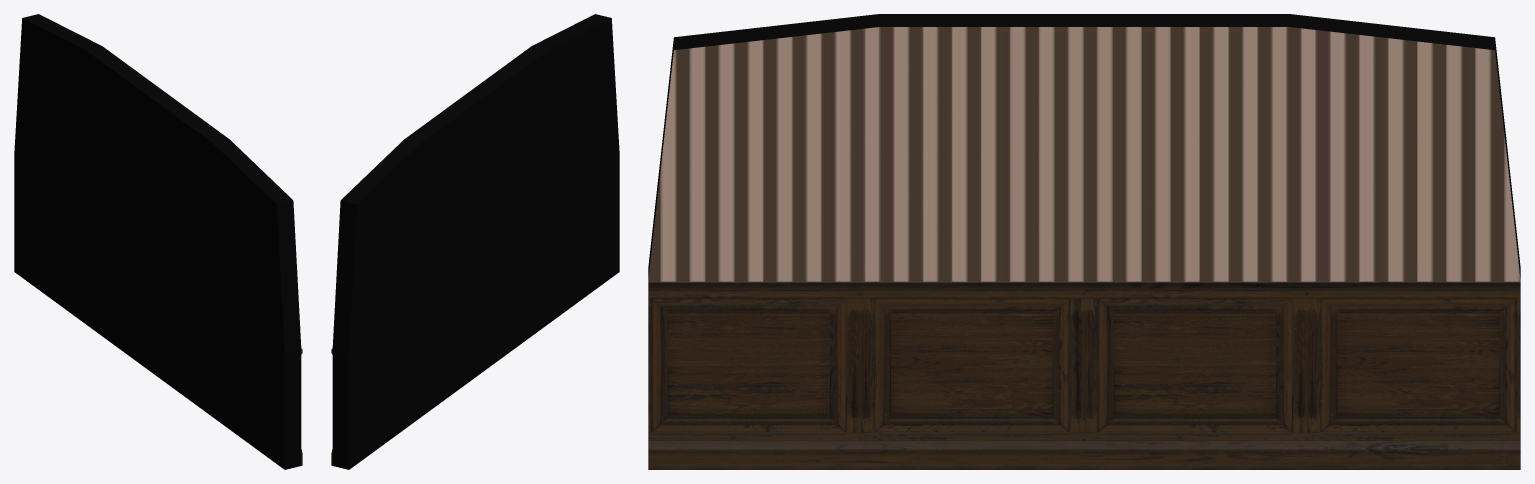
Rendered from VeteraphoneWall.gltf.
3 views of the same model, side by side, from view 1: azimuth 30°, elevation 25°; view 2: azimuth 150°, elevation 25°; view 3: azimuth 270°, elevation 25° (orthographic). The views are drawn at different scales.
Parts seen in each view (by area): view 1: Cube; view 2: Cube; view 3: Cube.
Boxes of the visible parts, <box> form: Cube: <box>14,14,302,469</box>; Cube: <box>331,14,619,469</box>; Cube: <box>648,14,1520,469</box>.
Size of the model in its own units: 0.65 by 9.5 by 17.
Materials: 3 (2 with a texture image).
